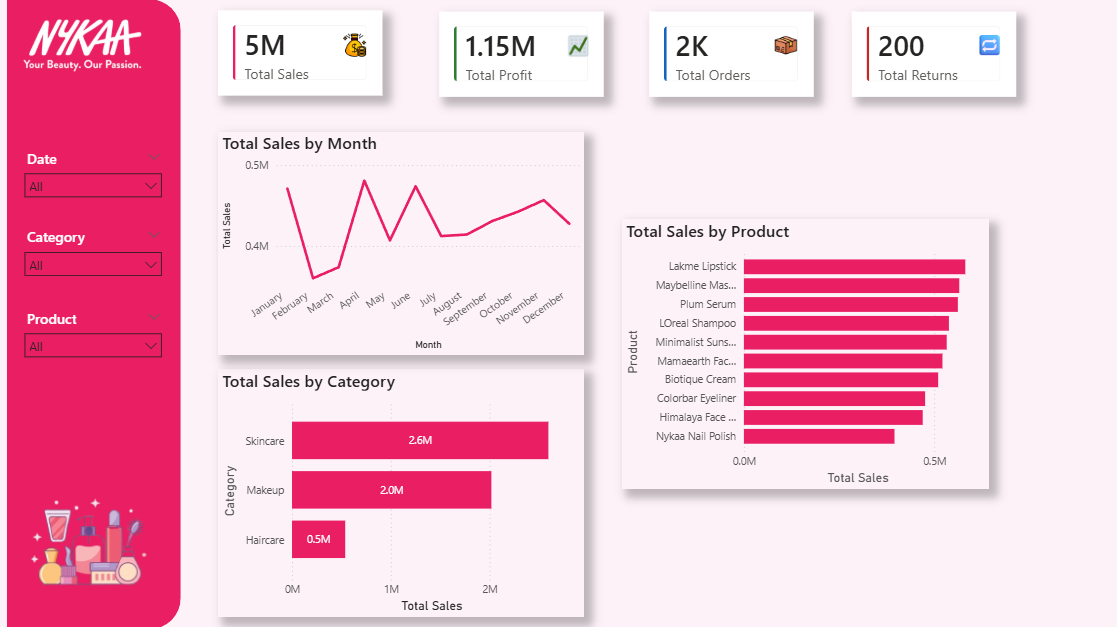

The page's visual inventory and layout, read from the dashboard file:
{"tool":"powerbi","page":{"name":"product analysis","canvas":[1280,720],"ordinal":0},"visuals":[{"type":"shape","box":[9.6,0,199,720.4],"z":0},{"type":"image","box":[10,12.4,176.6,82.1],"z":1000},{"type":"cardVisual","fields":{"Data":["Measure_Table.Total Sales"]},"box":[251.1,12.3,188,97.4],"z":2000},{"type":"cardVisual","fields":{"Data":["Measure_Table.Total Profit"]},"box":[505,13.7,188,97.4],"z":3000},{"type":"cardVisual","fields":{"Data":["Measure_Table.Total Orders"]},"box":[743.7,13.7,188,97.4],"z":4000},{"type":"cardVisual","fields":{"Data":["Measure_Table.Total Returns"]},"box":[975.6,13.7,188,97.4],"z":5000},{"type":"image","box":[393.8,37,26.1,31.6],"z":6000},{"type":"image","box":[886.5,37,26.1,31.6],"z":7000},{"type":"image","box":[1119.7,37,26.1,31.6],"z":8000},{"type":"image","box":[639.5,32.9,46.7,41.2],"z":9000},{"type":"lineChart","fields":{"Category":["Date.Date.Variation.Date Hierarchy.Year","Date.Date.Variation.Date Hierarchy.Quarter","Date.Date.Variation.Date Hierarchy.Month","Date.Date.Variation.Date Hierarchy.Day"],"Y":["Measure_Table.Total Sales"]},"box":[251.1,150.9,418.5,255.2],"z":10000},{"type":"clusteredBarChart","fields":{"Category":["Nykaa_Sales.Category"],"Y":["Measure_Table.Total Sales"]},"box":[251.1,422.6,418.5,284],"z":11000},{"type":"clusteredBarChart","fields":{"Category":["Nykaa_Sales.Product"],"Y":["Measure_Table.Total Sales"]},"box":[713.6,251.1,419.9,308.7],"z":12000},{"type":"slicer","fields":{"Values":["Nykaa_Sales.OrderDate"]},"box":[20.6,166,177,74.1],"z":13000},{"type":"slicer","fields":{"Values":["Nykaa_Sales.Category"]},"box":[20.6,255.2,177,74.1],"z":14000},{"type":"slicer","fields":{"Values":["Nykaa_Sales.Product"]},"box":[20.6,348.5,177,74.1],"z":15000},{"type":"image","box":[23.3,565.4,163.3,108.4],"z":16000}]}

Visuals, with their boxes in screenshot pixels (x1, y1, x2, y2), scaled from the page's 1280x720 canvas onto the 1117x627 screenshot:
shape: x1=8 y1=0 x2=182 y2=626
image: x1=9 y1=11 x2=163 y2=82
cardVisual - Measure_Table.Total Sales: x1=219 y1=11 x2=383 y2=96
cardVisual - Measure_Table.Total Profit: x1=441 y1=12 x2=605 y2=97
cardVisual - Measure_Table.Total Orders: x1=649 y1=12 x2=813 y2=97
cardVisual - Measure_Table.Total Returns: x1=851 y1=12 x2=1015 y2=97
image: x1=344 y1=32 x2=366 y2=60
image: x1=774 y1=32 x2=796 y2=60
image: x1=977 y1=32 x2=1000 y2=60
image: x1=558 y1=29 x2=599 y2=65
lineChart - Date.Date.Variation.Date Hierarchy.Year x Date.Date.Variation.Date Hierarchy.Quarter: x1=219 y1=131 x2=584 y2=354
clusteredBarChart - Nykaa_Sales.Category x Measure_Table.Total Sales: x1=219 y1=368 x2=584 y2=615
clusteredBarChart - Nykaa_Sales.Product x Measure_Table.Total Sales: x1=623 y1=219 x2=989 y2=487
slicer - Nykaa_Sales.OrderDate: x1=18 y1=145 x2=172 y2=209
slicer - Nykaa_Sales.Category: x1=18 y1=222 x2=172 y2=287
slicer - Nykaa_Sales.Product: x1=18 y1=303 x2=172 y2=368
image: x1=20 y1=492 x2=163 y2=587
